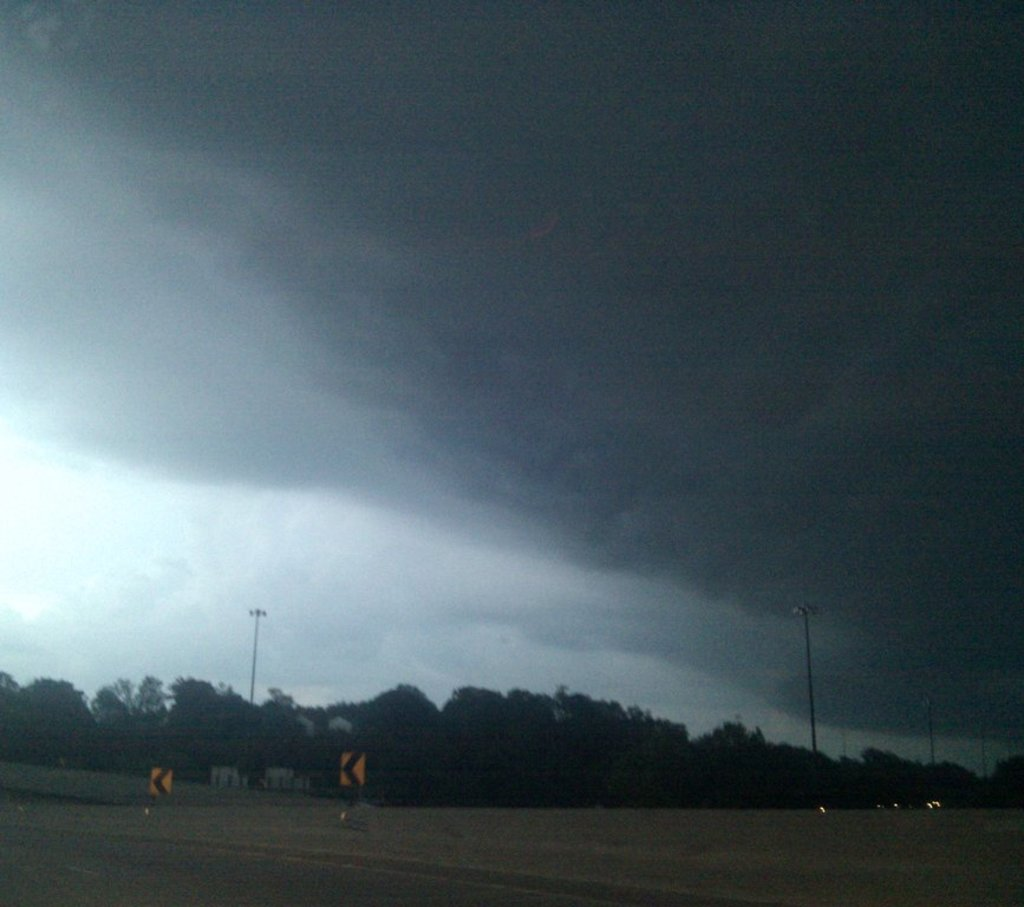Tree: (0, 669, 1023, 810)
